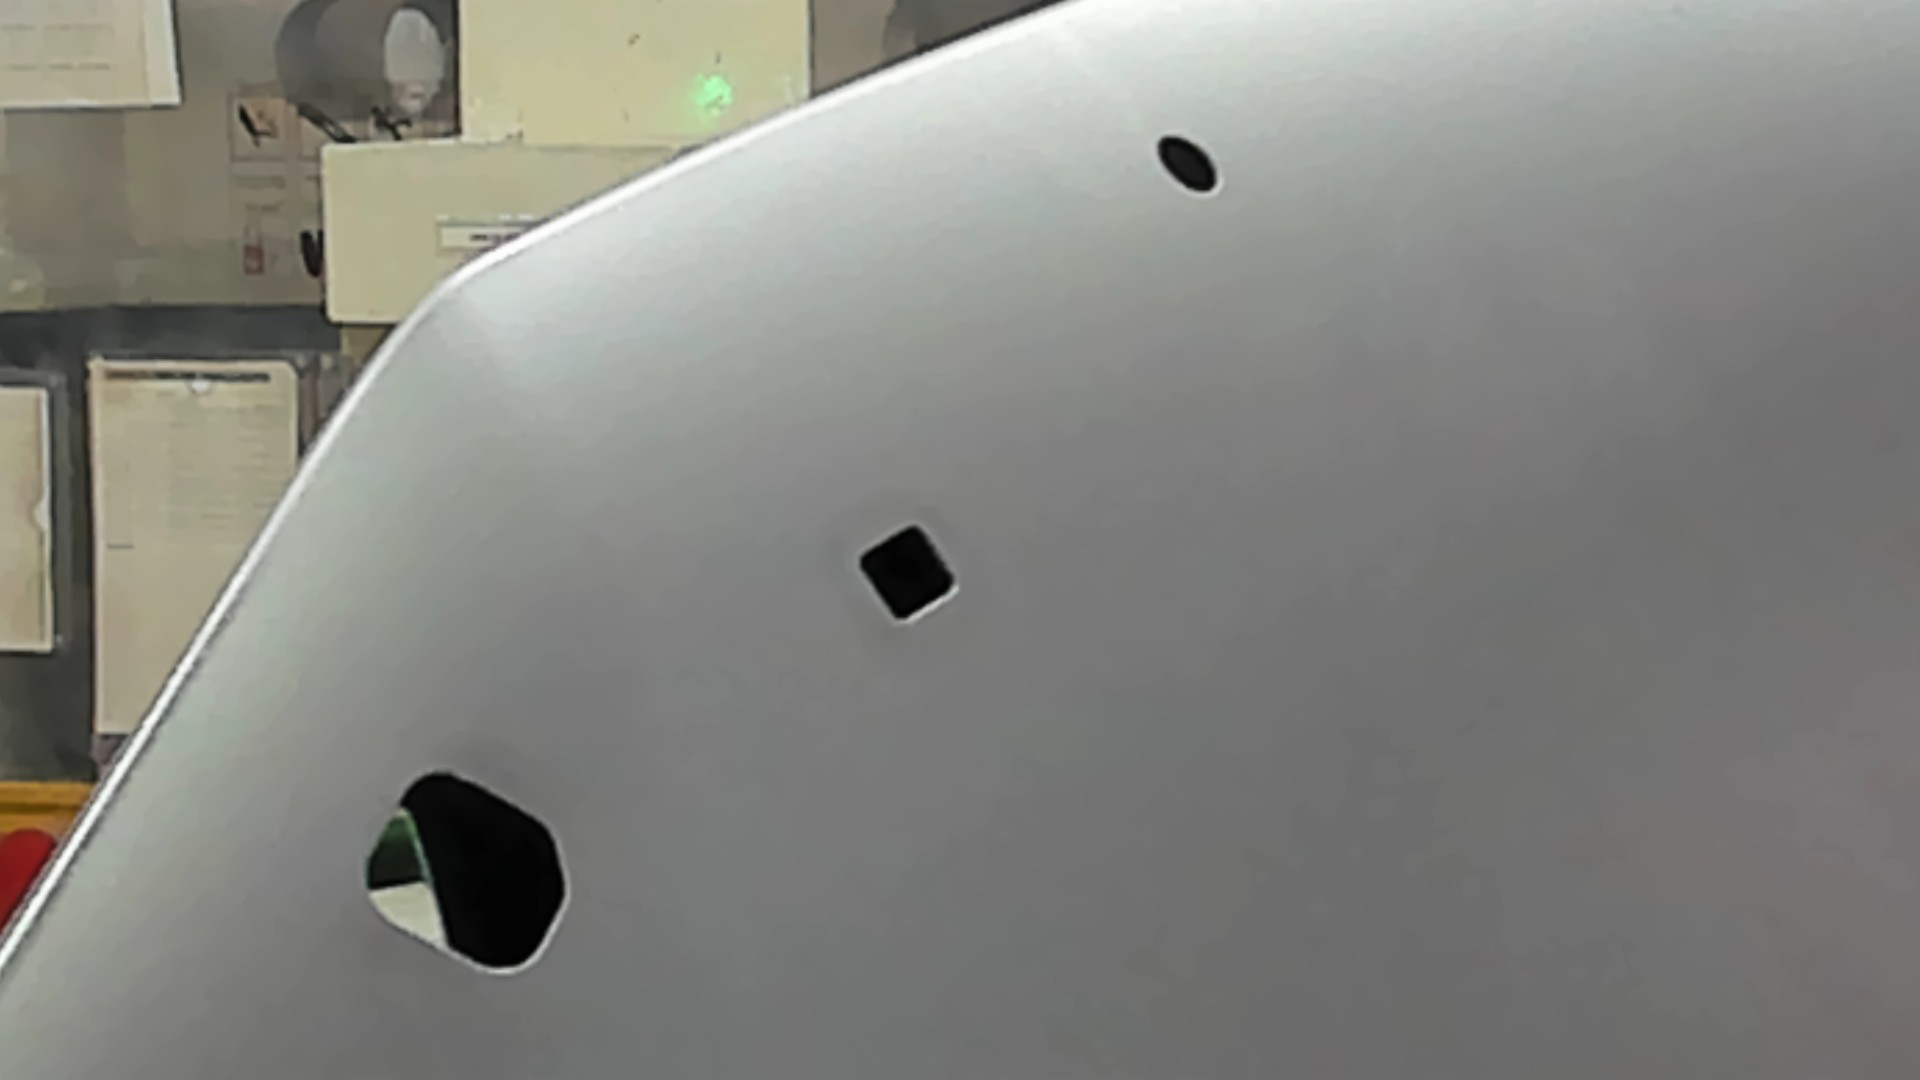chico: (1147, 123, 1234, 206)
grande: (336, 746, 578, 1001)
mediano: (836, 502, 973, 640)
